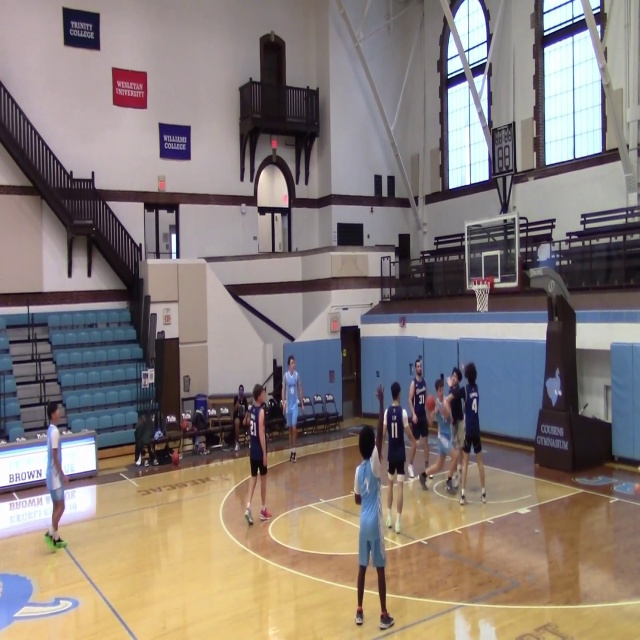Basketball: (425, 395, 435, 411), (171, 451, 179, 466)
